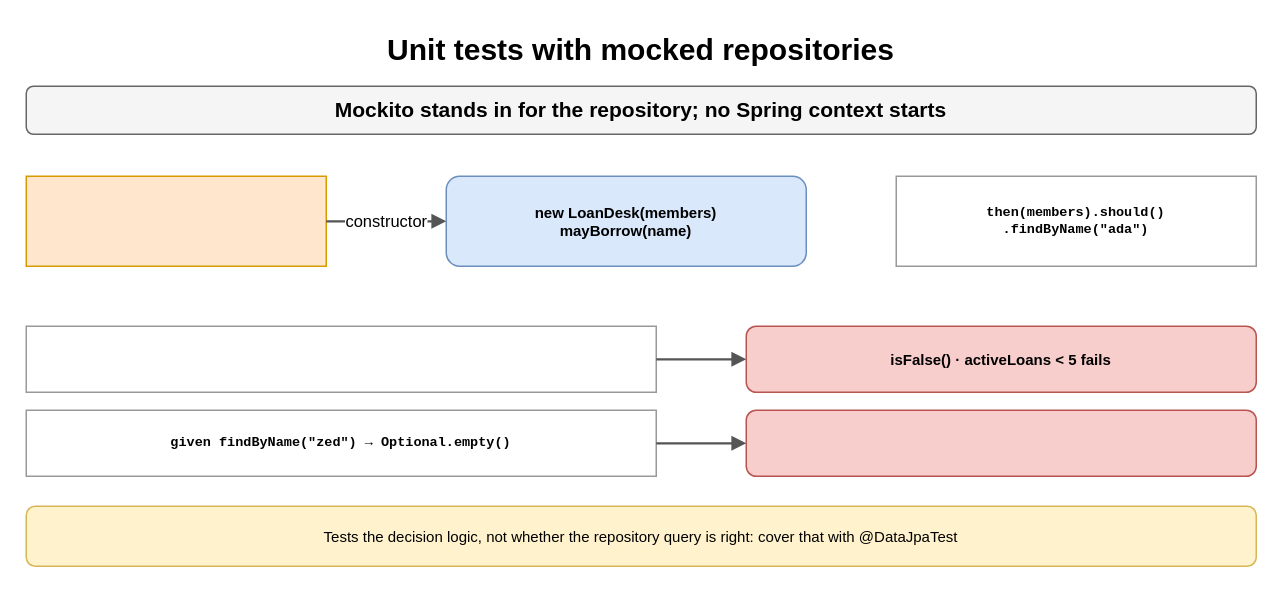
This 1283x593 diagram has some shape labels left out. The box of each missing label's shape, as (x1, y1, x2, y2) in pixels:
@Mock MemberStore members (MockitoExtension): (25, 175, 326, 266)
given findByName("ada") → Member("ada", 5): (25, 325, 656, 392)
isFalse(): (745, 409, 1256, 476)
